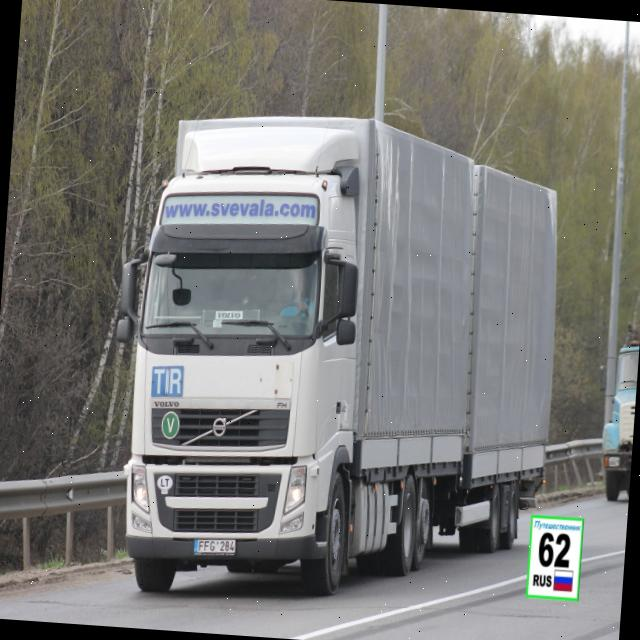License-plate: (191, 534, 236, 560)
